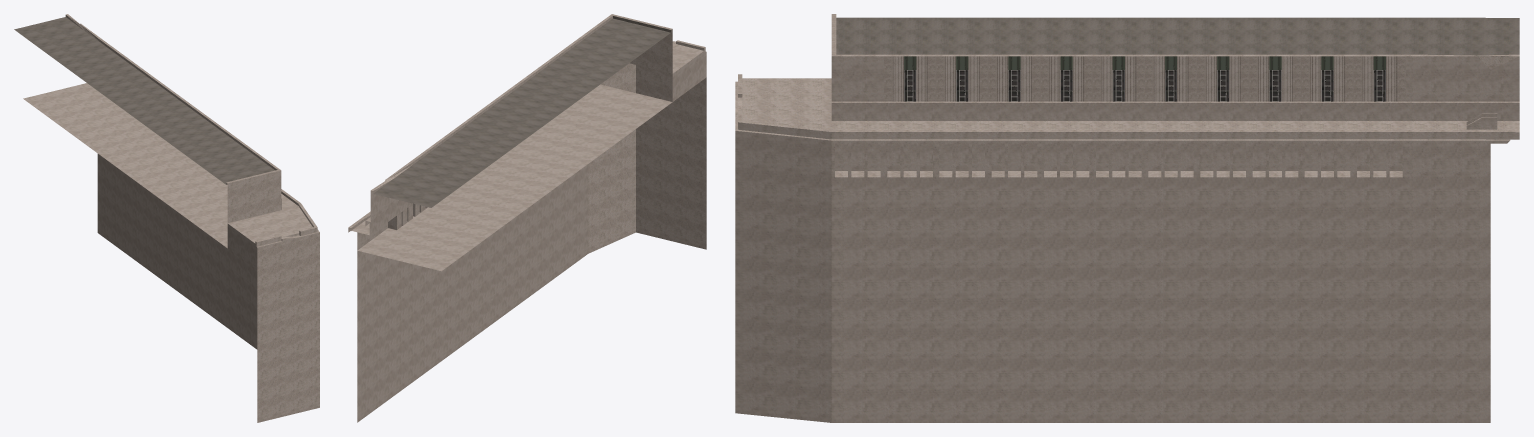
File: desn2dambit01.obj
The picture shows the model from 3 angles, left to right: view 1: azimuth 30°, elevation 25°; view 2: azimuth 150°, elevation 25°; view 3: azimuth 270°, elevation 25°; orthographic projection. The views are drawn at different scales.
Visible parts, largest first — view 1: desn2dambit01; view 2: desn2dambit01; view 3: desn2dambit01.
Boxes of the visible parts, x1,y1,x2,y2 form: desn2dambit01: (14, 14, 319, 422); desn2dambit01: (348, 14, 706, 422); desn2dambit01: (735, 14, 1519, 422).
Bounding box in the file's own units: 33.25 × 92.37 × 187.
Materials: 4 (4 with a texture image).
